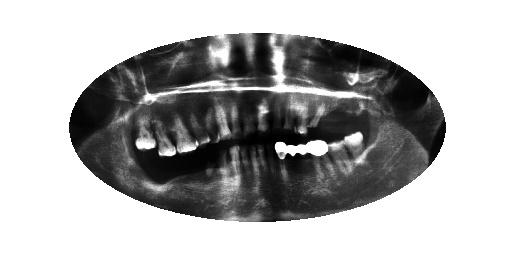i10decay: (237, 137, 252, 187)
i11healthy: (227, 138, 241, 190)
i12decay: (216, 140, 232, 196)
i13loss: (200, 138, 219, 184)
i14loss: (183, 141, 207, 187)
i2decay: (339, 127, 370, 173)
i3decay: (323, 135, 353, 179)
i4healthy: (307, 133, 336, 184)
i5loss: (284, 136, 317, 186)
i6healthy: (272, 133, 292, 187)
i7loss: (264, 139, 279, 187)
i8decay: (255, 137, 270, 191)
i9decay: (248, 141, 259, 189)
u10healthy: (210, 91, 236, 146)
u11decay: (199, 95, 223, 149)
u12decay: (184, 104, 212, 152)
u13healthy: (167, 104, 202, 159)
u14healthy: (150, 113, 179, 166)
u15healthy: (132, 108, 158, 157)
u3chipped: (306, 98, 328, 137)
u4decay: (292, 92, 310, 139)
u5chipped: (280, 90, 296, 141)
u6chipped: (269, 86, 284, 138)
u7decay: (254, 89, 272, 142)
u8chipped: (239, 92, 259, 146)
u9decay: (226, 93, 246, 146)
